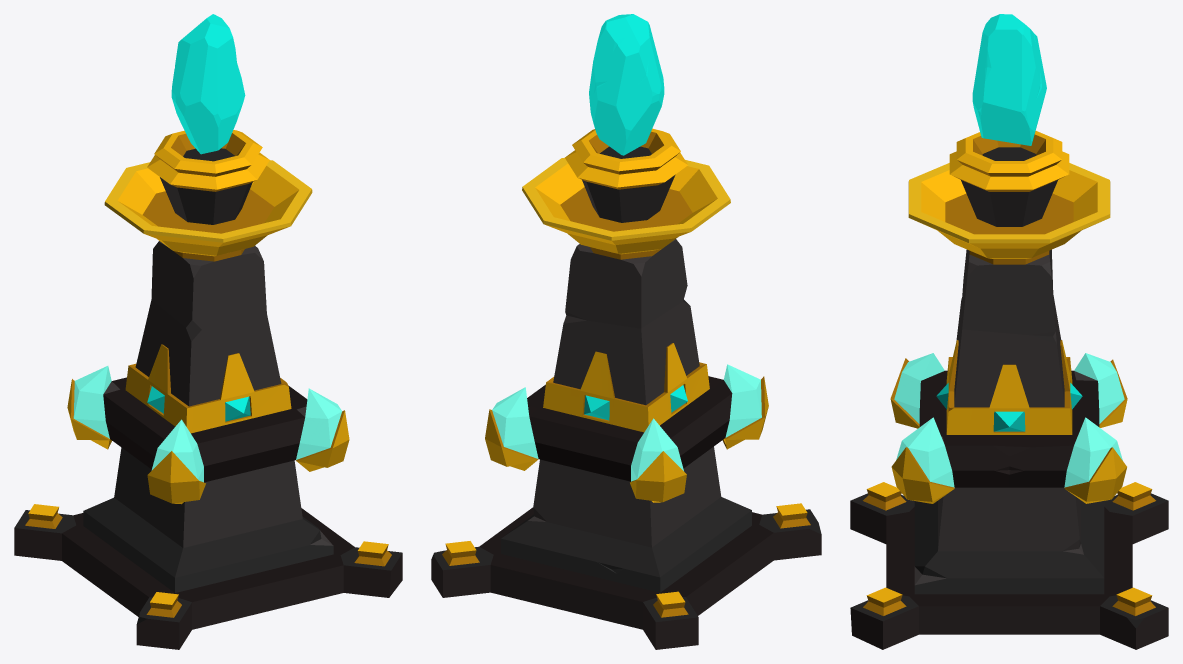
File: Pillar_Magic_01.glb
3 views of the same model, side by side, from view 1: azimuth 30°, elevation 25°; view 2: azimuth 150°, elevation 25°; view 3: azimuth 270°, elevation 25° (orthographic). The views are drawn at different scales.
Parts seen in each view (by area): view 1: Pillar_Magic_01; view 2: Pillar_Magic_01; view 3: Pillar_Magic_01.
Boxes of the visible parts, x1,y1,x2,y2 form: Pillar_Magic_01: (14,14,402,649); Pillar_Magic_01: (431,14,821,649); Pillar_Magic_01: (850,14,1168,649).
Size of what is drawn, in the model's own units: 1.39 by 2.74 by 1.39.
2 materials, 2 textured.
